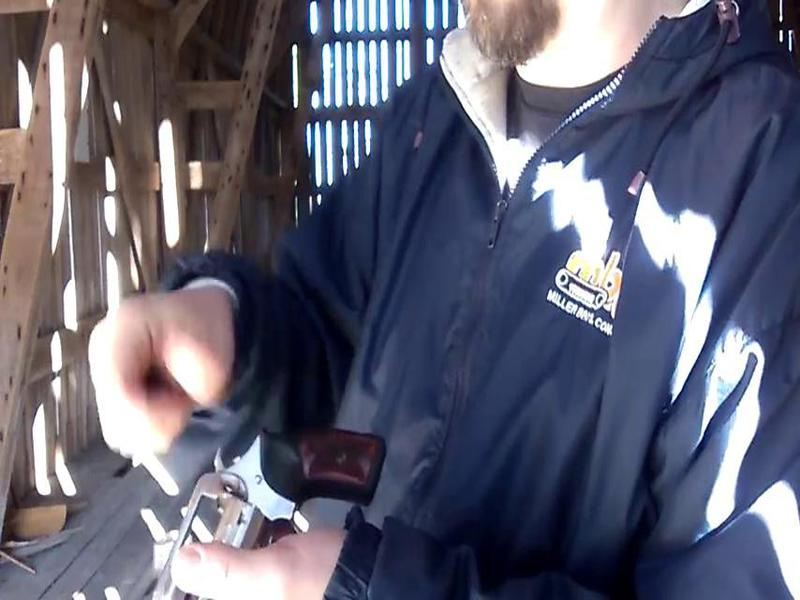Revolver: (134, 405, 384, 600)
